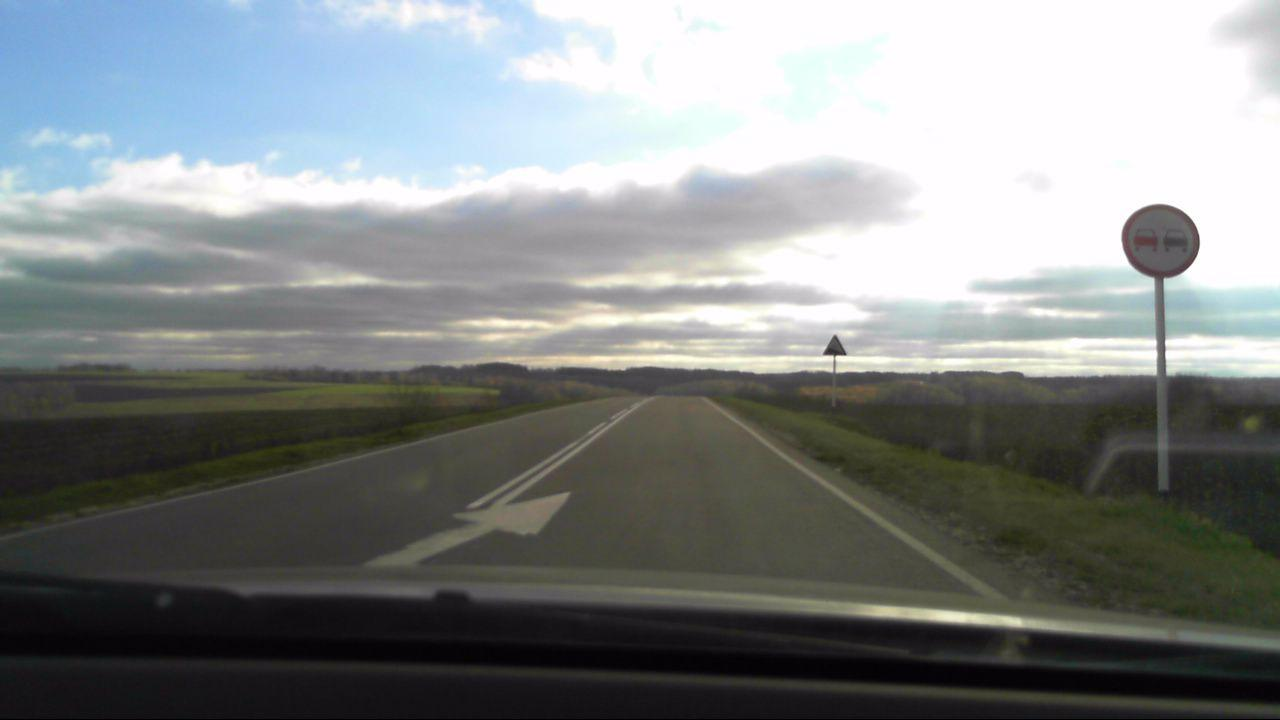1_13: (822, 333, 846, 356)
3_20: (1118, 200, 1205, 277)
